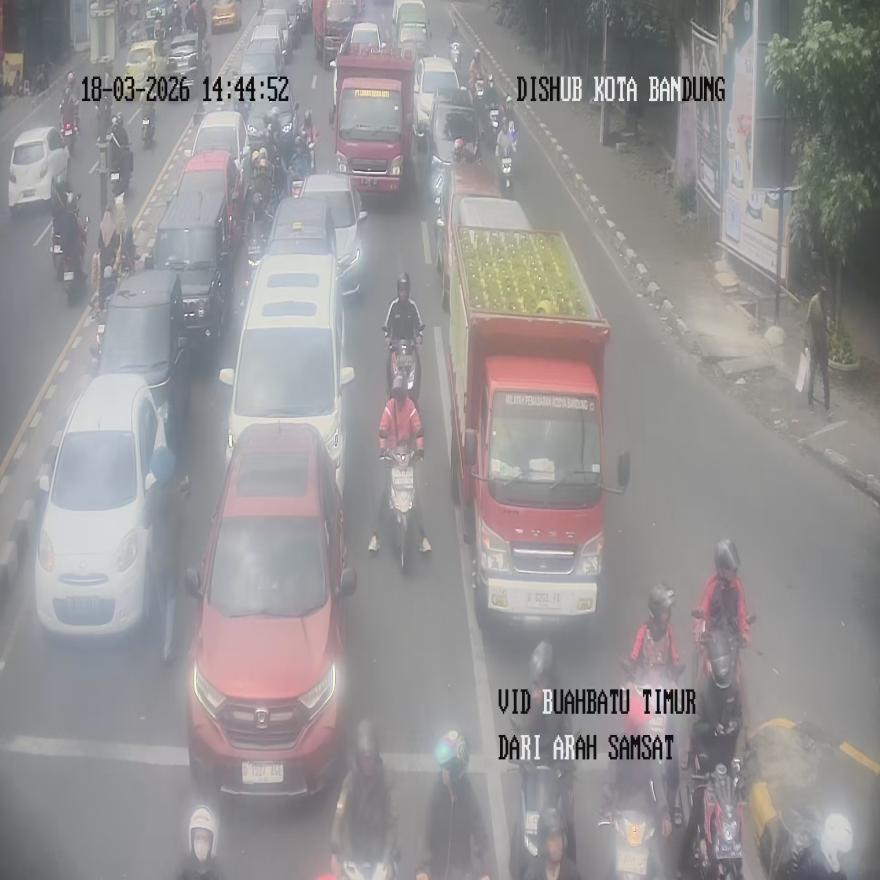Mobil: (184, 422, 356, 799), (33, 374, 165, 637), (219, 250, 354, 500), (148, 148, 238, 354), (92, 268, 189, 447)
Truk ringan: (444, 194, 632, 620), (341, 48, 416, 184)
